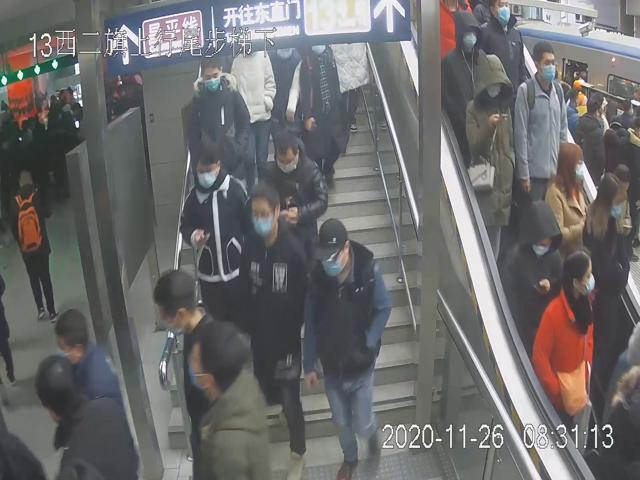person: (302, 220, 390, 480), (241, 185, 304, 480), (178, 141, 248, 334), (512, 37, 572, 205), (256, 124, 329, 253), (185, 55, 249, 180)
